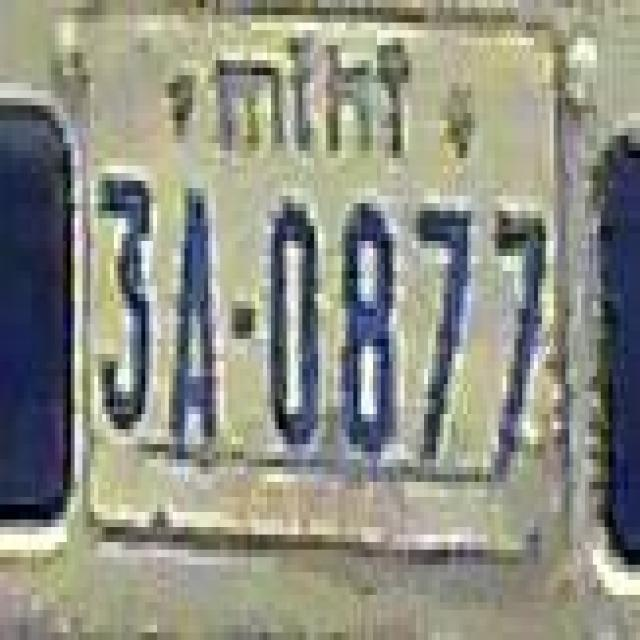Takeo: (216, 30, 414, 166)
